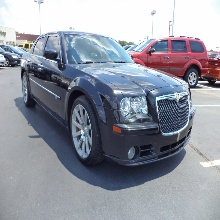no damage: (20, 31, 192, 167), (133, 37, 208, 83)
